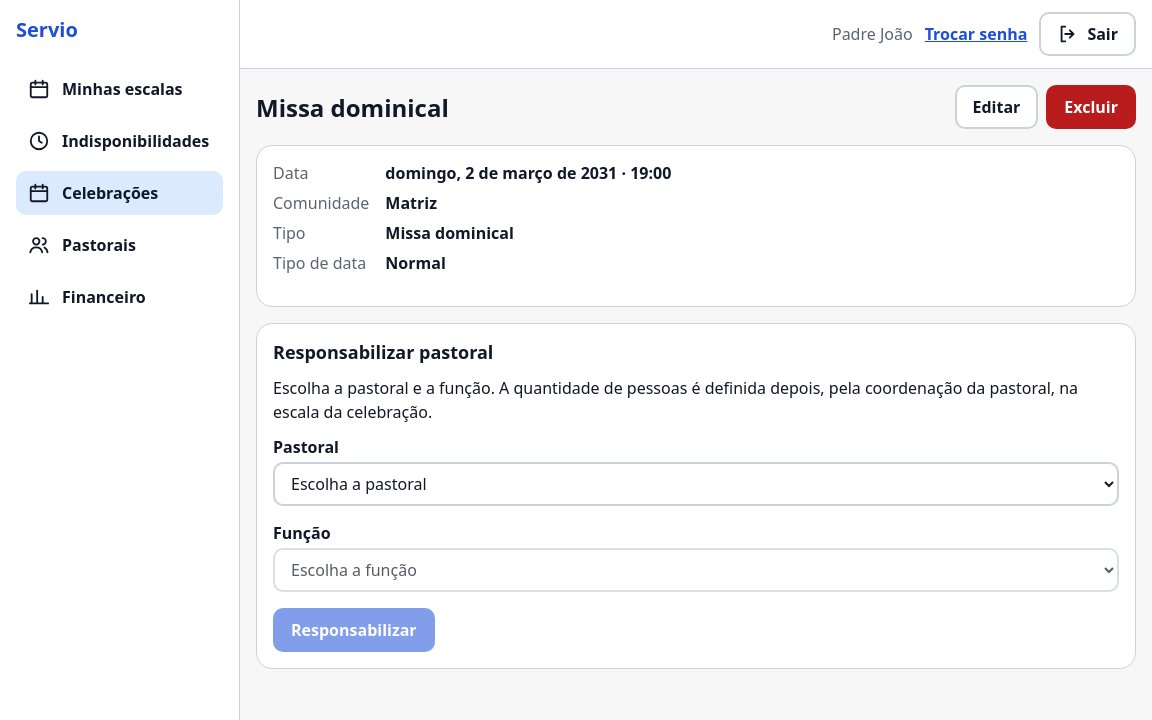
Test: Detalhe da celebração (área do padre) › excluir pede confirmação e manda de volta à lista
Click the button "Excluir" at (1091, 107), box [1046, 85, 1136, 129]
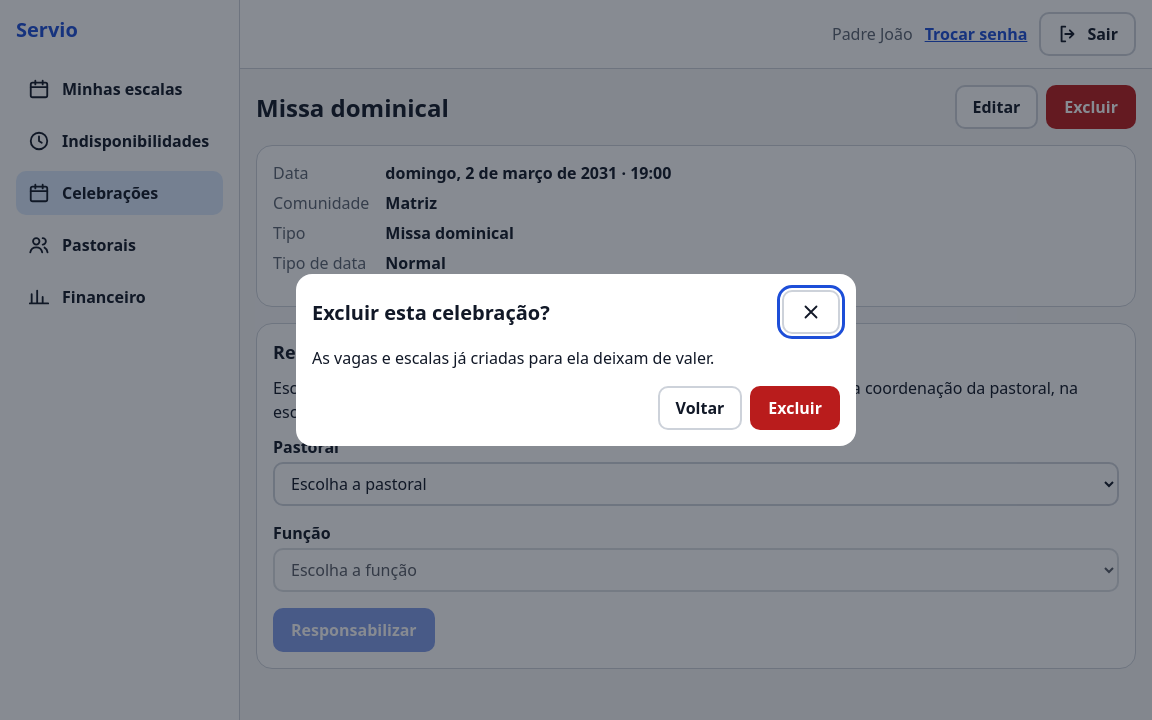
Click the button "Excluir" at (795, 408), box [750, 386, 840, 430]
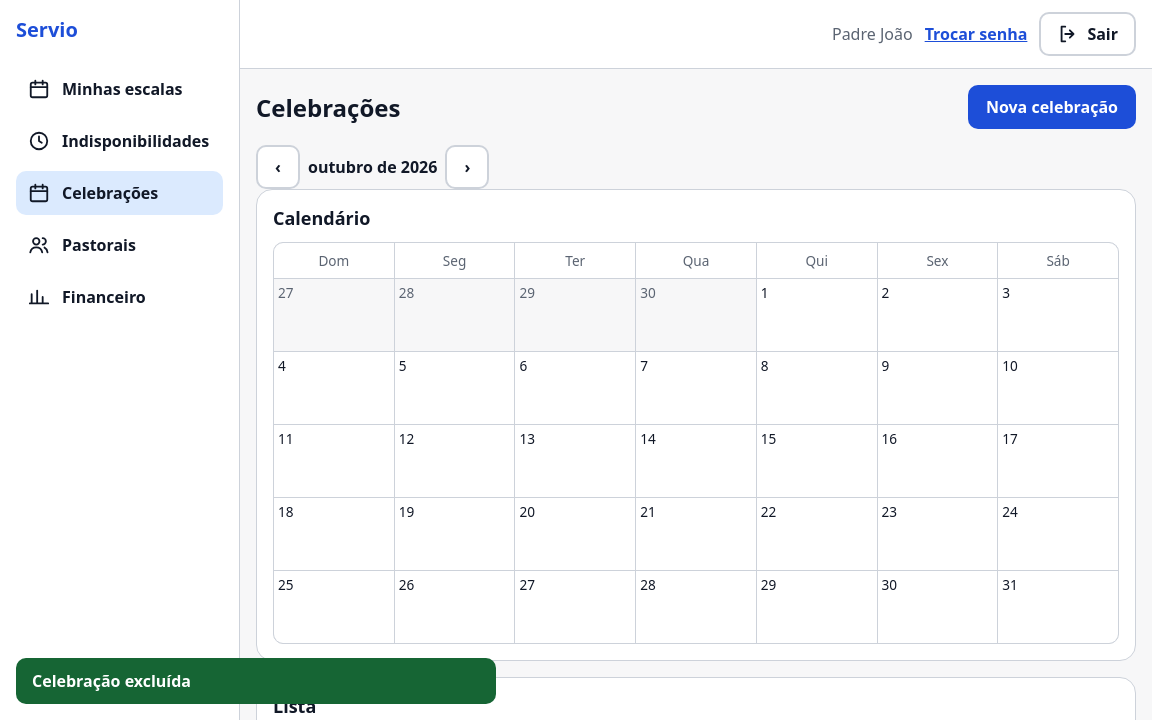
Expected: the heading "Celebrações" is shown, [256, 90, 400, 124]
